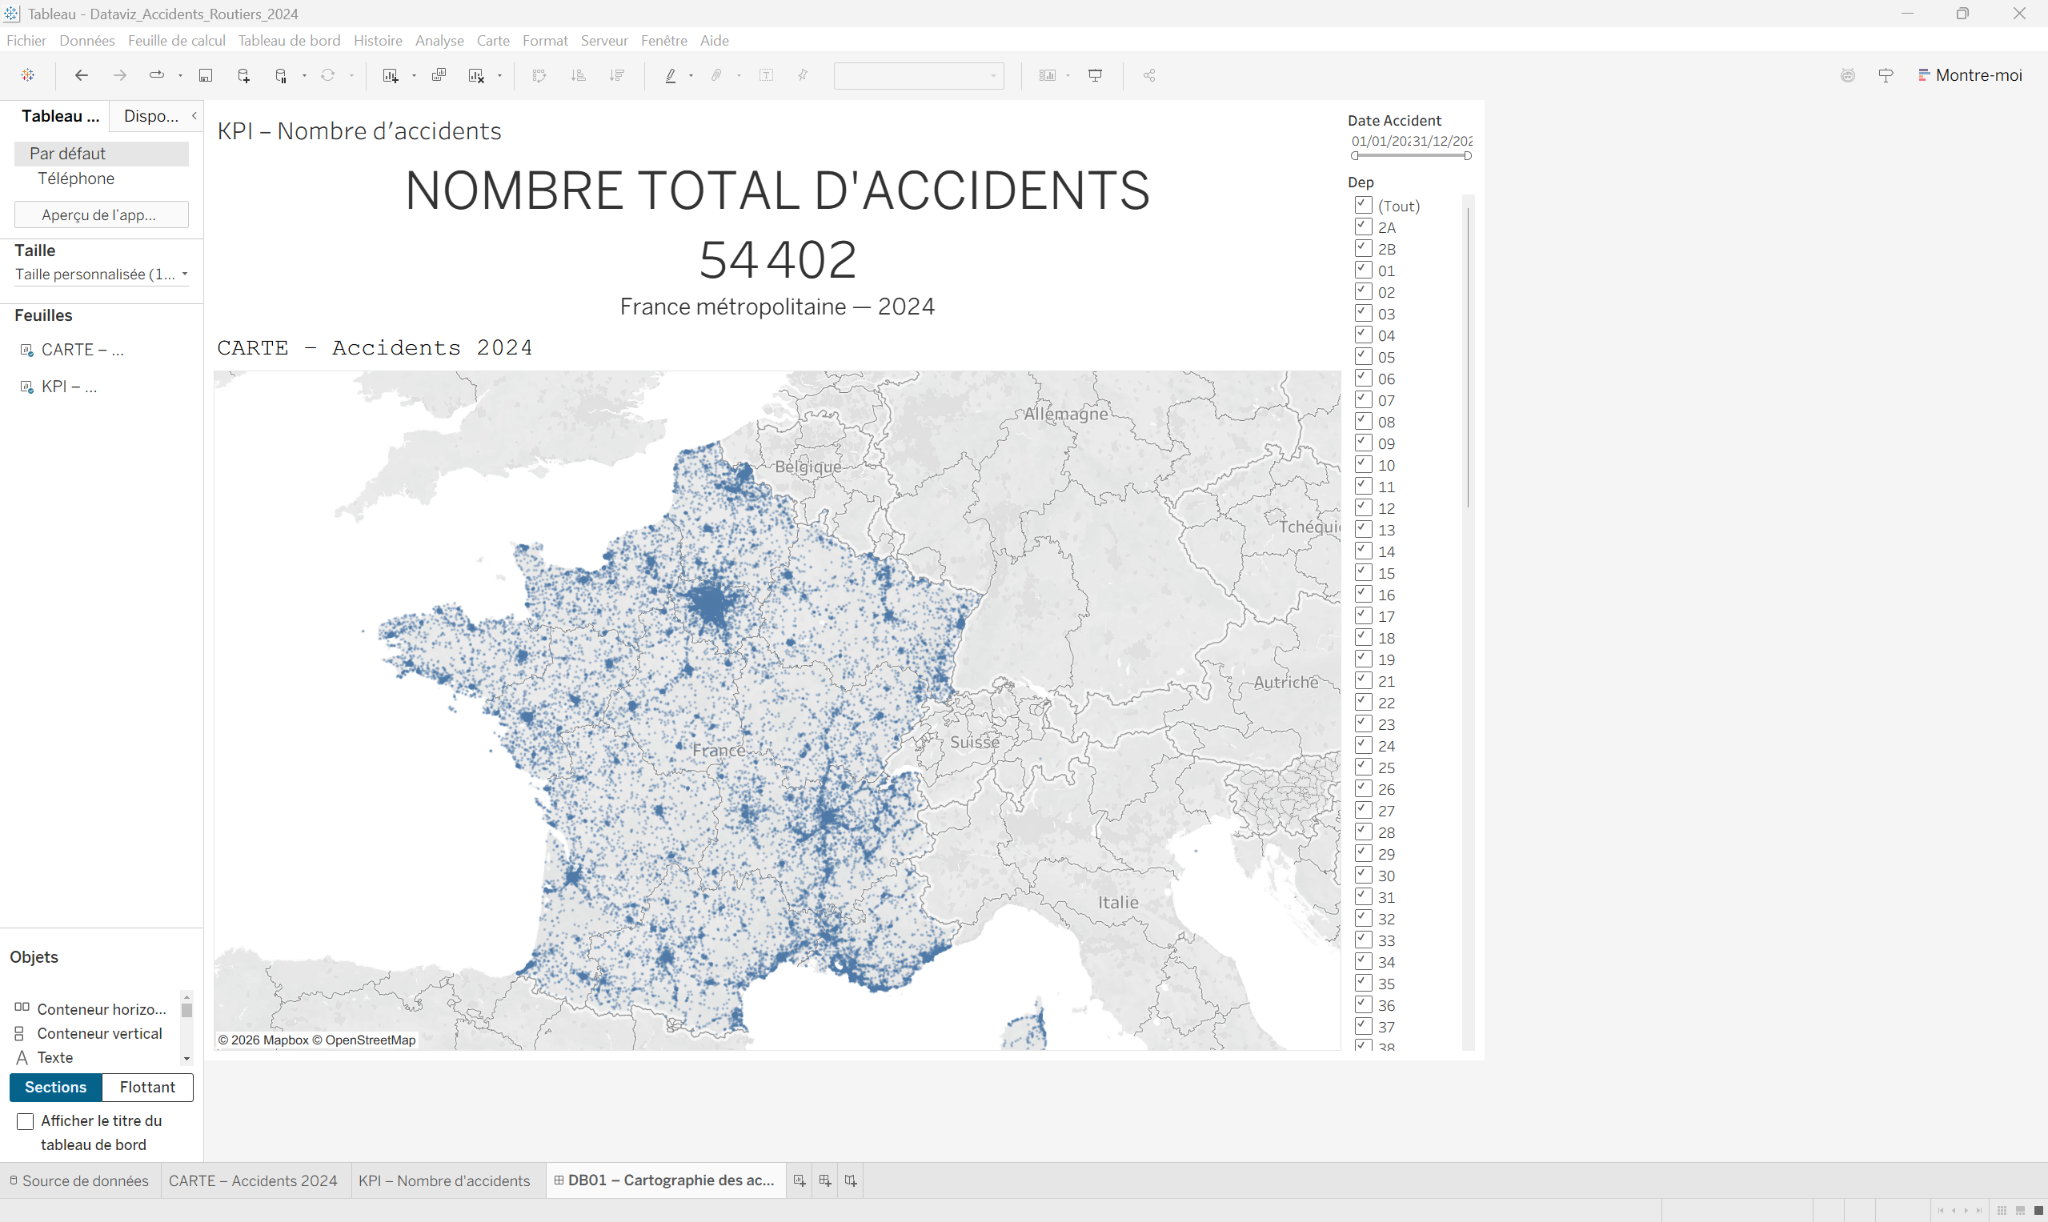

Layout of this report page (visuals, bound fields, positions):
{"tool":"tableau","page":{"name":"DB01 – Cartographie des accidents","canvas":[1000,1000],"units":"permille","ordinal":0},"visuals":[{"type":"worksheet","title":"KPI – Nombre d'accidents","mark":"Automatic","box":[3.6,6,783,231.1]},{"type":"filter","title":"CARTE – Accidents 2024","param":"[federated.1dc3qo30r3qsj61aflm3n1lx6kel].[none:Calculation_3093267443486720:qk]","box":[786.5,6,209.9,44.5]},{"type":"filter","title":"CARTE – Accidents 2024","param":"[federated.1dc3qo30r3qsj61aflm3n1lx6kel].[none:dep:nk]","box":[786.5,50.5,209.9,52.8]},{"type":"worksheet","title":"CARTE – Accidents 2024","mark":"Circle","rows":["latitude_carte"],"cols":["longitude_carte"],"box":[3.6,237.2,783,756.8]}]}

Visuals, with their boxes on the dashboard's canvas, which has no fixed pixel size, in thousandths of its width and height (x1, y1, x2, y2). These are canvas units, not pixel positions in the 2048x1222 screenshot, which may show the page scaled, cropped or inside an application window:
"KPI – Nombre d'accidents" worksheet: (x1=4, y1=6, x2=787, y2=237)
"CARTE – Accidents 2024" filter: (x1=786, y1=6, x2=996, y2=50)
"CARTE – Accidents 2024" filter: (x1=786, y1=50, x2=996, y2=103)
"CARTE – Accidents 2024" worksheet (Circle marks): (x1=4, y1=237, x2=787, y2=994)
